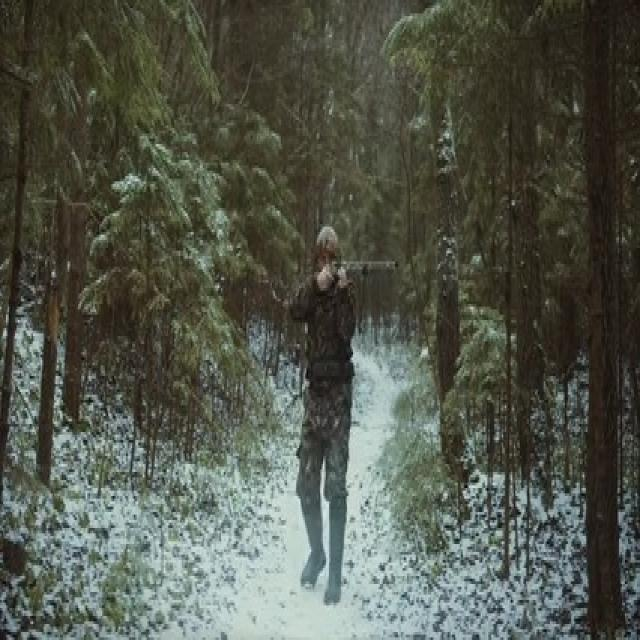Gun_Holder: (318, 257, 402, 295)
Person: (287, 221, 357, 613)
